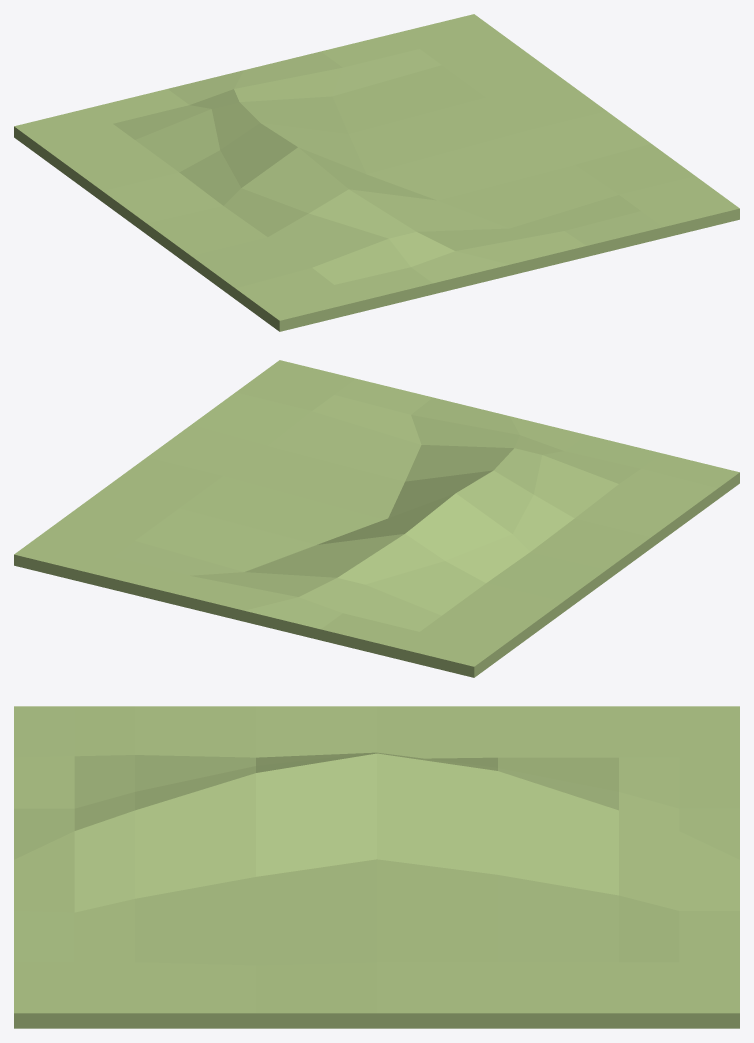
Rendered from Plains II.fbx.
3 views of the same model, one above another, from view 1: azimuth 30°, elevation 25°; view 2: azimuth 150°, elevation 25°; view 3: azimuth 270°, elevation 25° (orthographic). The views are drawn at different scales.
Visible parts, largest first — view 1: Plains II; view 2: Plains II; view 3: Plains II.
Part boxes in pixels (x1=…): Plains II: x1=14, y1=14, x2=739, y2=331; Plains II: x1=14, y1=360, x2=739, y2=677; Plains II: x1=14, y1=706, x2=739, y2=1028.
Size of the model in its own units: 1600 by 168 by 1600.
